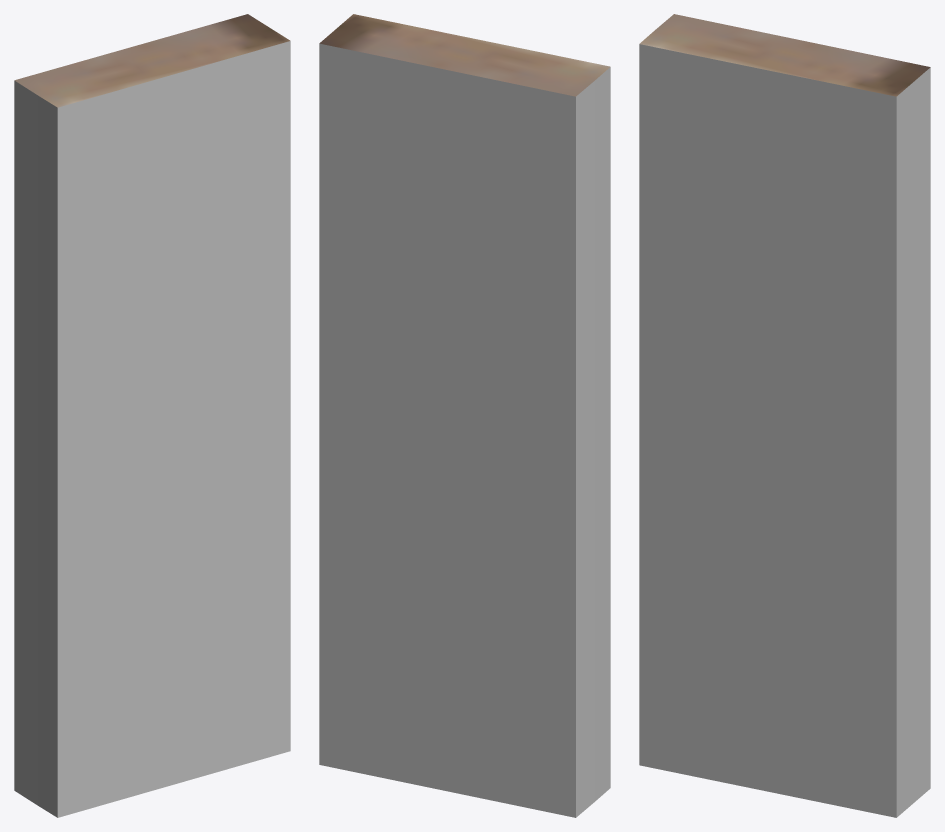
Rendered from DEBW_0010007TI07.gltf.
3 renders of one model, left to right at view 1: azimuth 30°, elevation 25°; view 2: azimuth 150°, elevation 25°; view 3: azimuth 330°, elevation 25°, orthographic.
Visible parts, largest first — view 1: Z_UP; view 2: Z_UP; view 3: Z_UP.
Boxes of the visible parts, x1,y1,x2,y2 form: Z_UP: [14, 14, 290, 817]; Z_UP: [319, 14, 610, 817]; Z_UP: [639, 14, 930, 817].
Size of the model in its own units: 4.34 by 11.89 by 1.47.
Materials: 2 (1 with a texture image).
